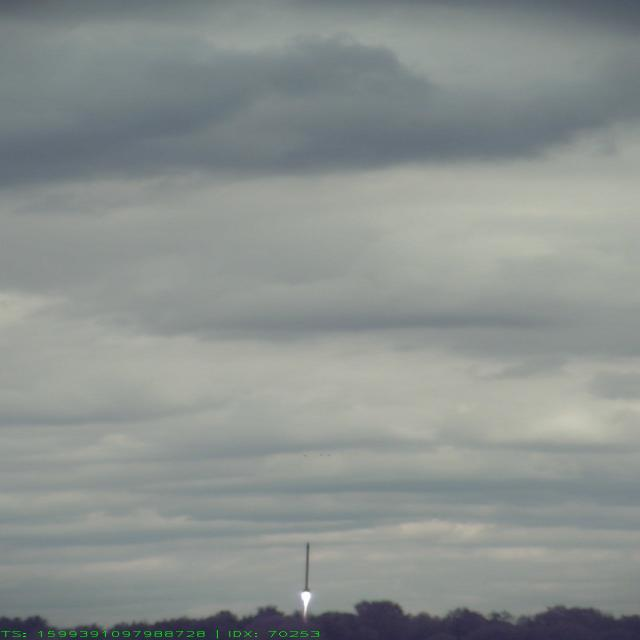Rocket: (301, 541, 312, 592)
